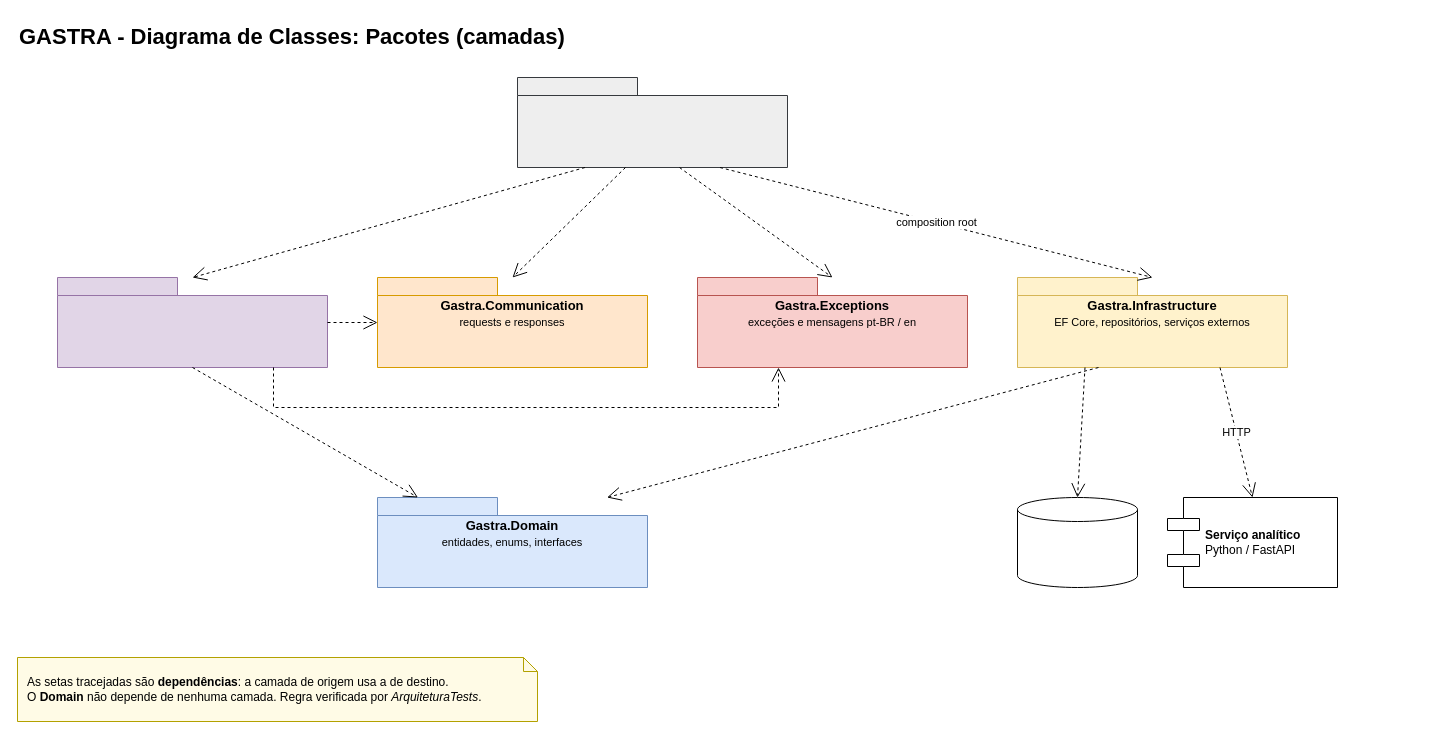
Image size: 1435x739. Some labels were removed from this diagram. The centre of each missing label's shape, as x and y in pixels:
"Gastra.Api controllers, filtros, middlewares" goes at pixel 652 122.
"Gastra.Application casos de uso, validação, mapeamento" goes at pixel 192 322.
"MySQL" goes at pixel 1077 542.
